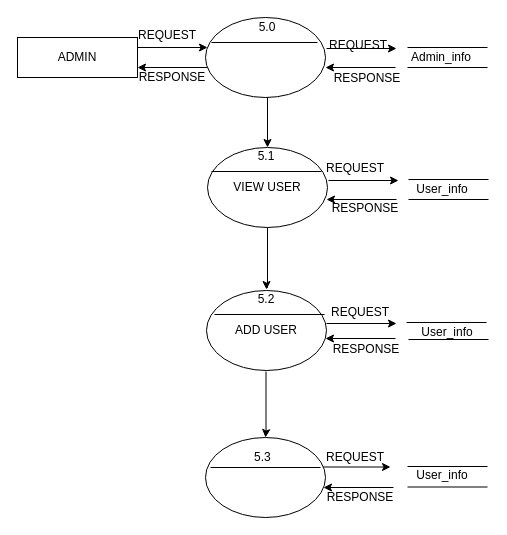
Image size: 507x535. Some labels were removed from this diagram. Each missing label, with the box of its shape:
DELETE USER: (204, 436, 326, 518)
LOGIN: (204, 16, 326, 98)
